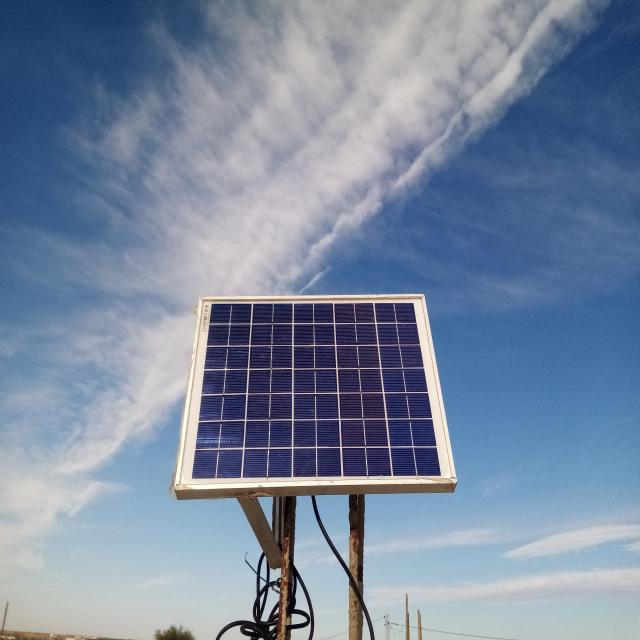no faulty: (176, 295, 455, 488)
